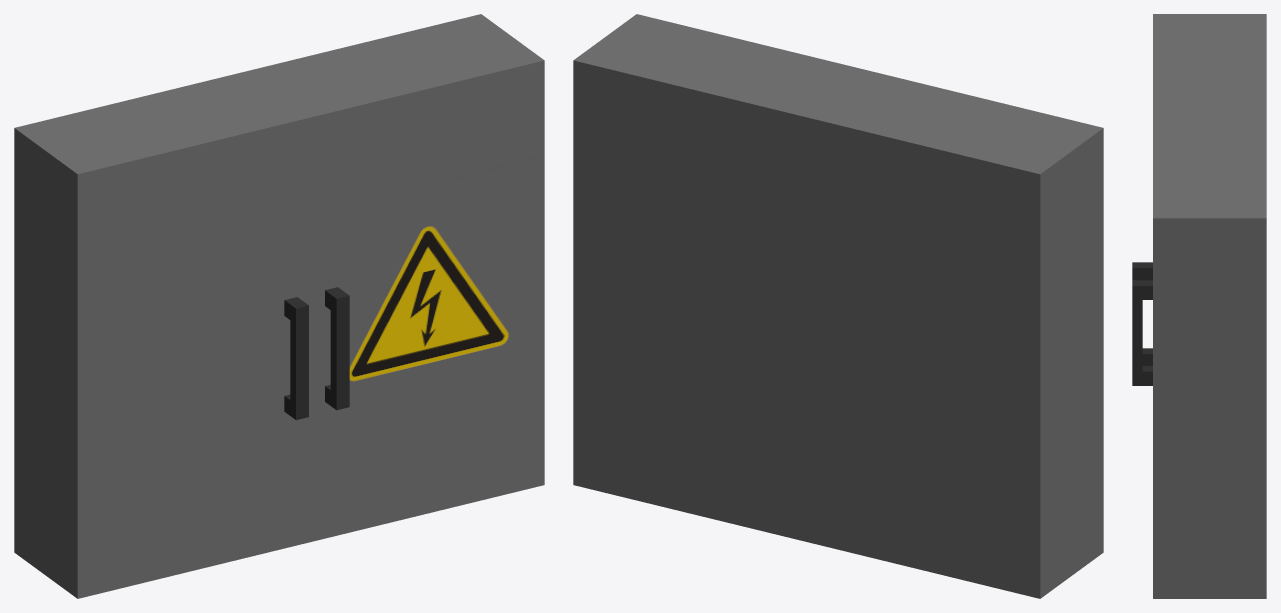
The model's file is StartBat.fbx.
The picture shows the model from 3 angles, left to right: view 1: azimuth 30°, elevation 25°; view 2: azimuth 150°, elevation 25°; view 3: azimuth 270°, elevation 25°; orthographic projection. The views are drawn at different scales.
Visible parts, largest first — view 1: ElectricBoxL, ElectricBoxR, ElectricBox; view 2: ElectricBox, ElectricBoxL, ElectricBoxR; view 3: ElectricBox, ElectricBoxR, ElectricBoxL.
Boxes of the visible parts, box(x1,y1,x2,y2) form: ElectricBoxL: box(75, 115, 311, 598); ElectricBoxR: box(309, 58, 544, 541); ElectricBox: box(14, 14, 541, 596); ElectricBox: box(573, 16, 1101, 598); ElectricBoxL: box(868, 71, 1103, 553); ElectricBoxR: box(634, 14, 869, 72); ElectricBox: box(1157, 14, 1266, 598); ElectricBoxR: box(1132, 116, 1157, 598); ElectricBoxL: box(1132, 14, 1157, 365).
Bounding box in the file's own units: 0.5753 × 0.1602 × 0.5.
